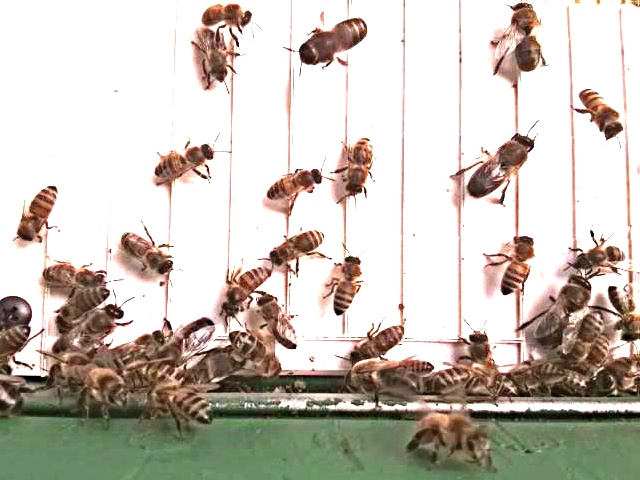Drone: (466, 129, 536, 200), (534, 271, 593, 348), (53, 301, 126, 360), (297, 12, 372, 68), (157, 312, 221, 367), (509, 0, 546, 74)
Worker: (152, 141, 219, 180), (224, 264, 276, 314), (227, 327, 284, 372), (499, 230, 536, 299), (42, 256, 111, 293), (118, 229, 176, 272), (54, 282, 112, 325), (260, 291, 301, 351), (349, 321, 409, 362), (20, 180, 60, 241), (578, 84, 622, 137), (271, 225, 330, 264), (332, 250, 366, 316), (569, 307, 606, 364), (266, 165, 326, 200), (606, 282, 640, 342), (346, 132, 377, 196), (430, 365, 498, 393), (569, 241, 630, 272), (200, 25, 231, 83), (201, 0, 257, 28)
